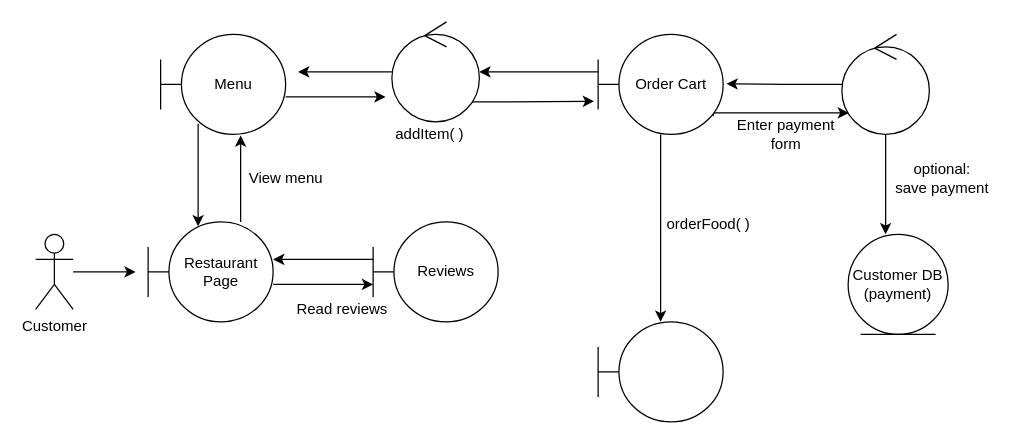
The diagram is 1019 pixels wide and 444 high, and some of its shapes have lost their labels. The centre of each missing label's shape, as x and y in pixels:
Choose Items: point 435,71
Order Status: point 660,371
Payment Method: point 885,83
